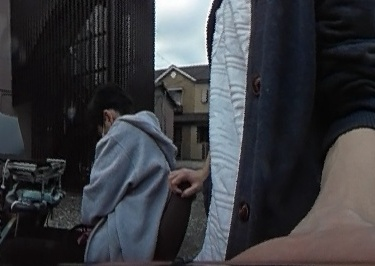person: (85, 85, 173, 266)
